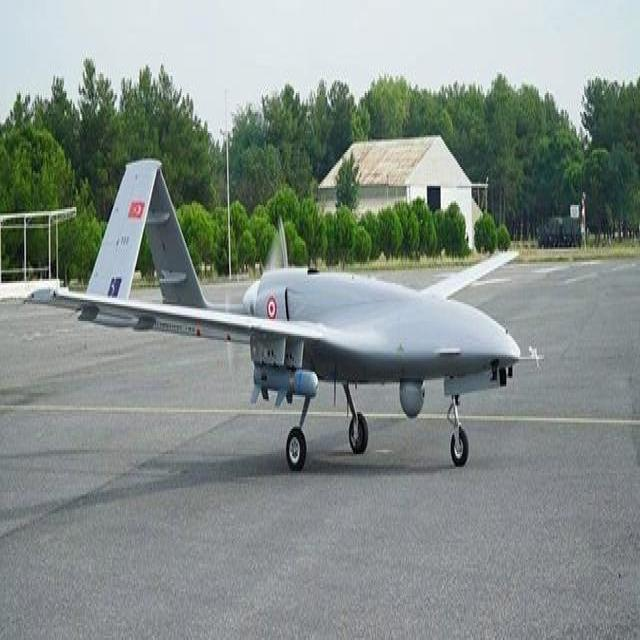iha: (59, 149, 577, 474)
